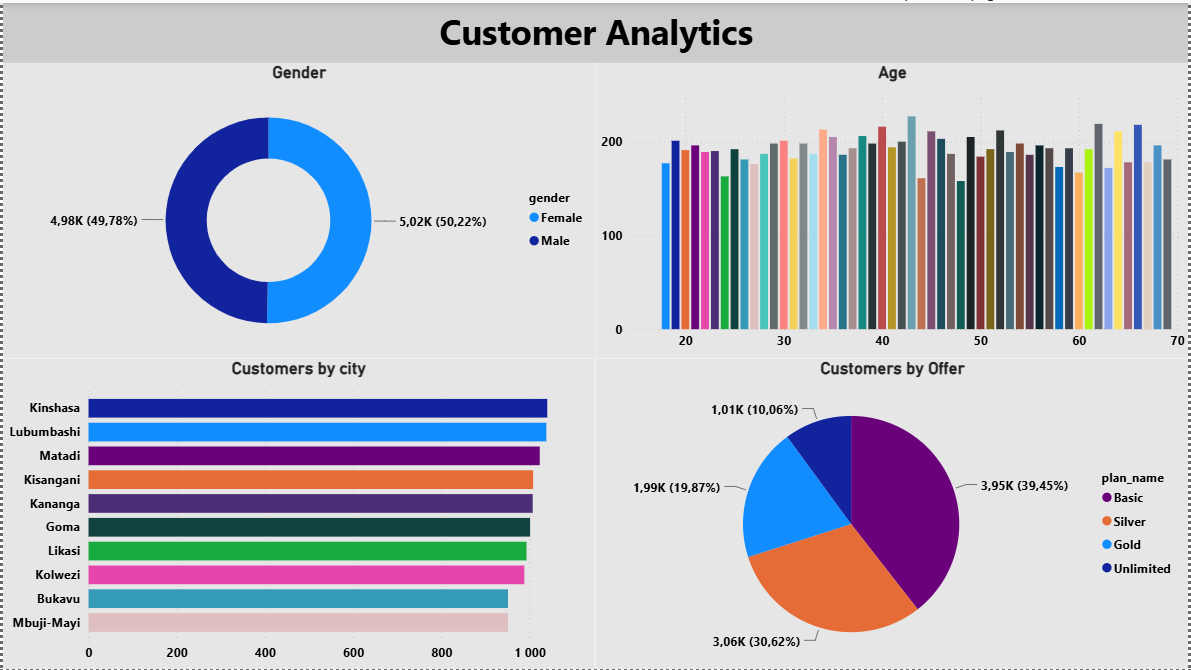

The dashboard page shown, as its layout file describes it:
{"tool":"powerbi","page":{"name":"Page 2","canvas":[1280,720],"ordinal":1},"visuals":[{"type":"textbox","box":[0,0,1280.8,64.8],"z":0},{"type":"barChart","title":"Customers by city","fields":{"Category":["customers.city"],"Y":["CountNonNull(customers.customer_id)"],"Series":["customers.city"]},"box":[0,383.6,638.7,336.4],"z":1},{"type":"donutChart","title":"Gender","fields":{"Y":["CountNonNull(customers.gender)"],"Category":["customers.gender"]},"box":[0,64.8,639.6,319],"z":2},{"type":"columnChart","title":"Age","fields":{"Y":["CountNonNull(customers.customer_id)"],"Category":["customers.age"],"Series":["customers.age"]},"box":[639.6,64.8,641.2,319],"z":3},{"type":"pieChart","title":"Customers by Offer","fields":{"Y":["CountNonNull(customers.customer_id)"],"Category":["plans.plan_name"]},"box":[639.6,383.8,641.2,336.8],"z":4}]}

Visuals, with their boxes in screenshot pixels (x1, y1, x2, y2), scaled from the page's 1280x720 canvas onto the 1191x670 screenshot:
textbox: 0,0,1190,60
"Customers by city" barChart: 0,357,594,669
"Gender" donutChart: 0,60,595,357
"Age" columnChart: 595,60,1190,357
"Customers by Offer" pieChart: 595,357,1190,669
